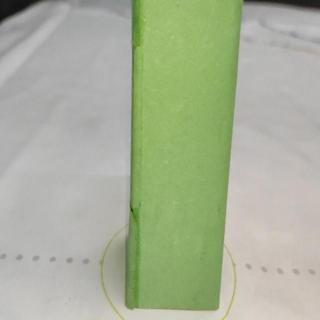greenbox: (123, 2, 241, 311)
